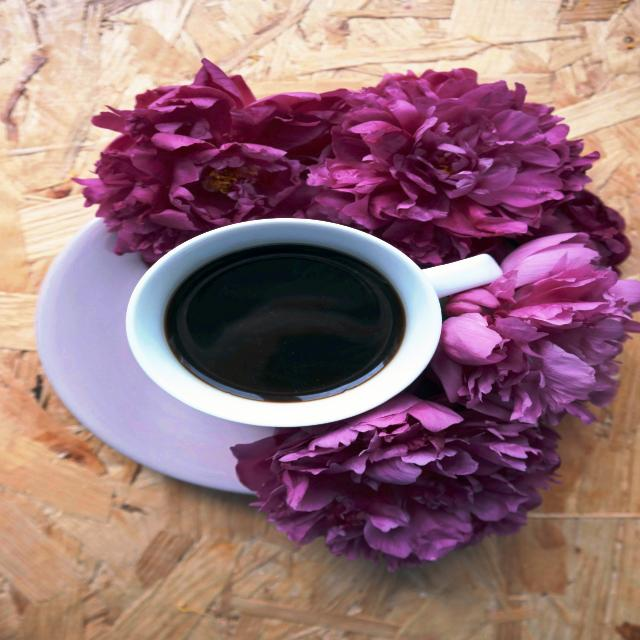drink: (116, 217, 500, 430)
